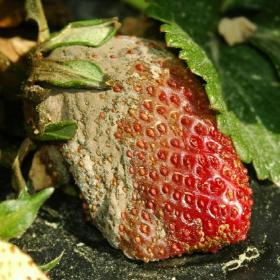Gray Mold: (18, 18, 255, 263)
